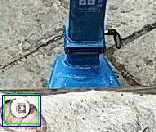text: (4, 94, 38, 123)
